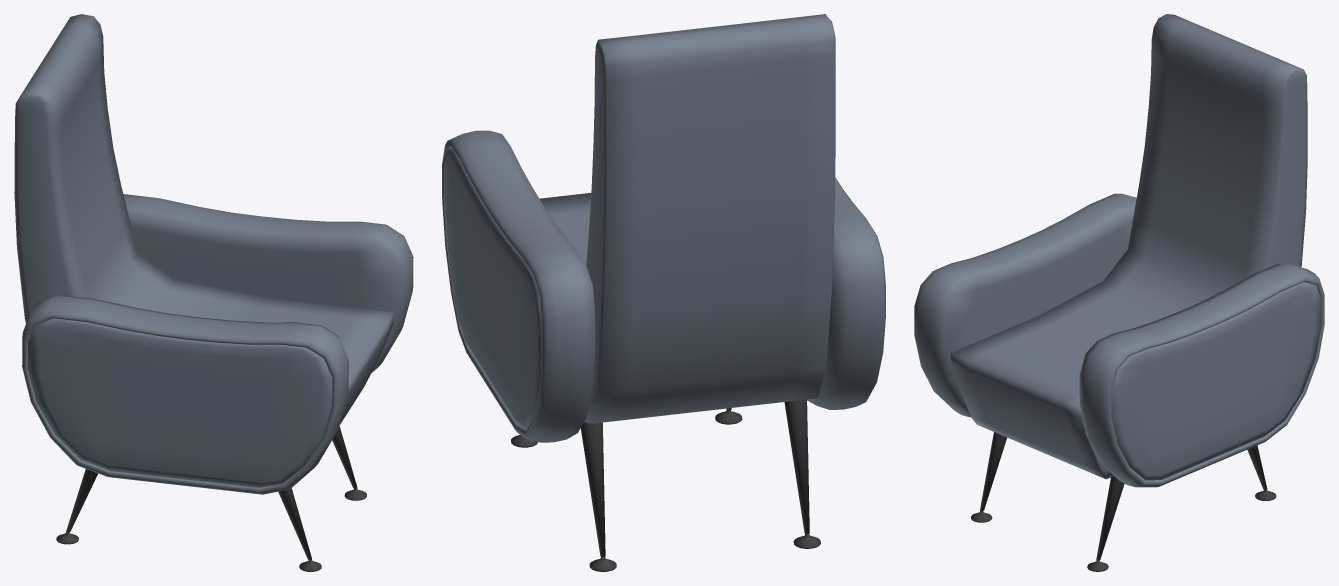
Rendered from livingroom_chair02.fbx.
3 renders of one model, left to right at view 1: azimuth 30°, elevation 25°; view 2: azimuth 150°, elevation 25°; view 3: azimuth 270°, elevation 25°, orthographic. The views are drawn at different scales.
Parts seen in each view (by area): view 1: body.009, legs; view 2: body.009, legs; view 3: body.009, legs.
Part boxes in pixels (x1=…): body.009: x1=14, y1=14, x2=413, y2=494; legs: x1=56, y1=426, x2=366, y2=571; body.009: x1=442, y1=14, x2=885, y2=442; legs: x1=511, y1=399, x2=820, y2=571; body.009: x1=914, y1=14, x2=1324, y2=487; legs: x1=971, y1=432, x2=1276, y2=571.
Bounding box in the file's own units: 83.89 × 94.9 × 83.9.
